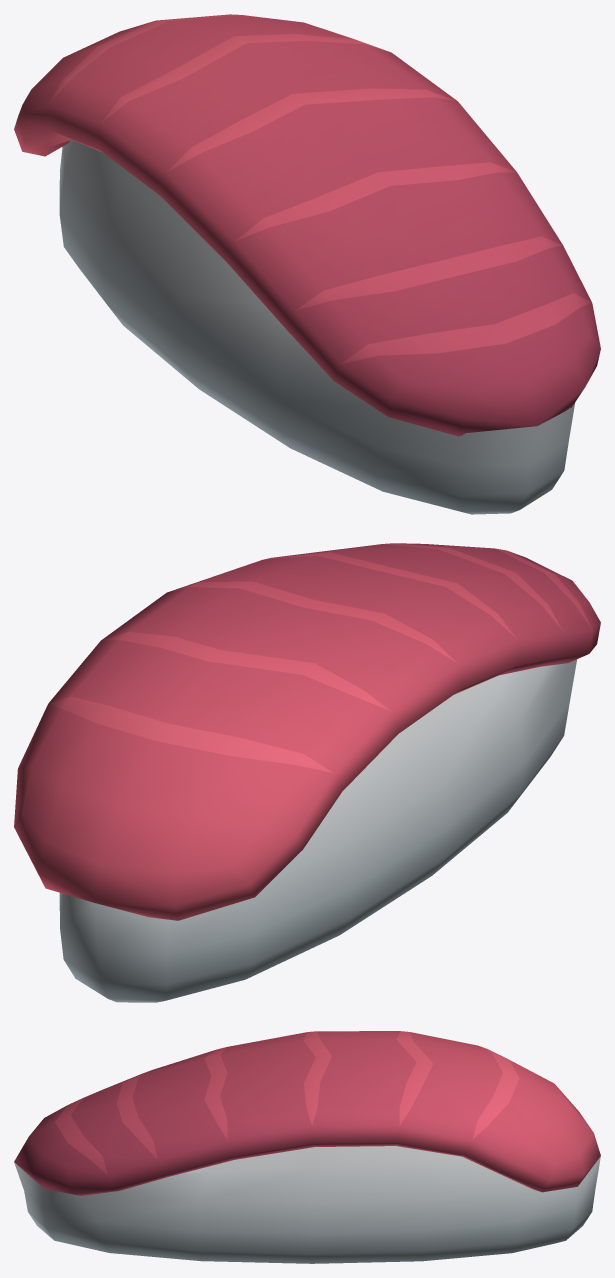
File: sushi_003.fbx
3 renders of one model, top to bottom at view 1: azimuth 30°, elevation 25°; view 2: azimuth 150°, elevation 25°; view 3: azimuth 270°, elevation 25°, orthographic. The views are drawn at different scales.
Visible parts, largest first — view 1: sushi_003; view 2: sushi_003; view 3: sushi_003.
Part boxes in pixels (left/top/right/bottom): sushi_003: left=14, top=14, right=600, bottom=514; sushi_003: left=14, top=543, right=600, bottom=1002; sushi_003: left=14, top=1031, right=600, bottom=1263.
Size of the model in its own units: 3.36 by 8.53 by 2.88.
